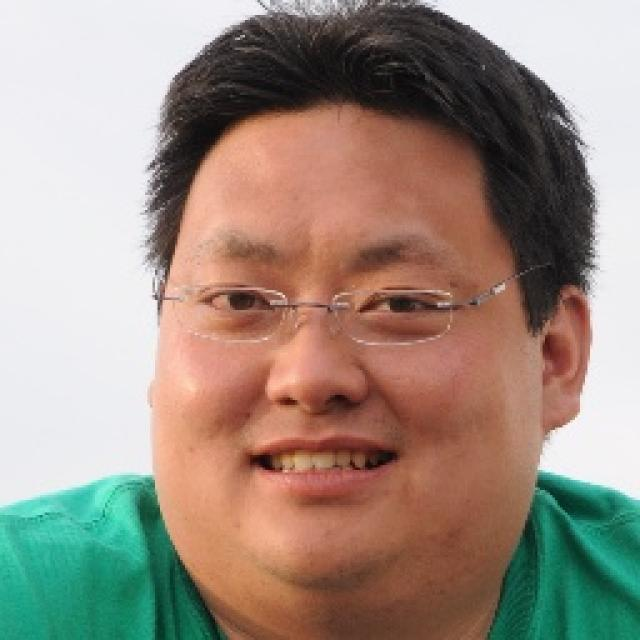earlobe: (537, 375, 579, 435)
eye: (362, 288, 442, 319), (197, 283, 277, 314)
nose: (259, 386, 376, 452)
wholeear: (538, 284, 592, 434)
